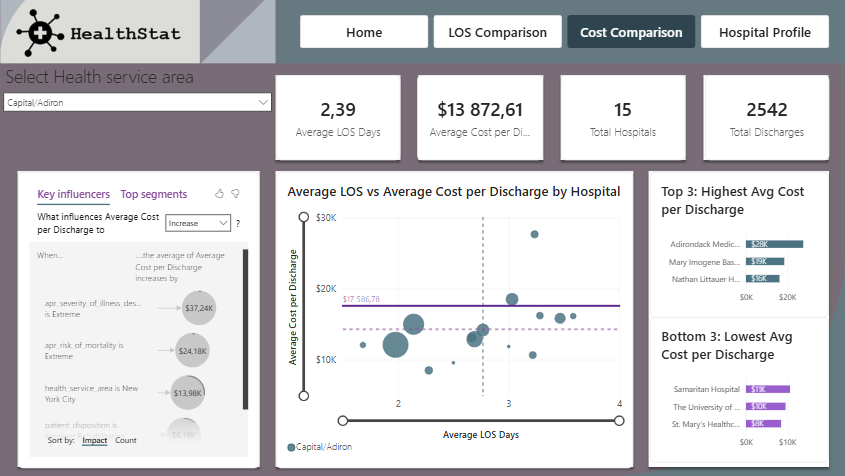

The dashboard page shown, as its layout file describes it:
{"tool":"powerbi","page":{"name":"Cost Comparison","canvas":[1920,1080],"ordinal":2},"visuals":[{"type":"scatterChart","title":"Average LOS vs Average Cost per Discharge by Hospital","fields":{"Category":["hospital_discharges.facility_name"],"Series":["hospital_discharges.health_service_area"],"Size":["_Measures.Total Discharges"],"X":["_Measures.Average LOS Days"],"Y":["_Measures.Average Cost per Discharge"]},"box":[737.5,436.2,540,447.5],"z":0},{"type":"slicer","fields":{"Values":["hospital_discharges.health_service_area"]},"box":[321.2,273.8,416.2,162.5],"z":1000},{"type":"keyDriversVisual","fields":{"ExplainBy":["hospital_discharges.apr_risk_of_mortality","hospital_discharges.apr_severity_of_illness_description","hospital_discharges.ccs_diagnosis_description","hospital_discharges.patient_disposition","hospital_discharges.gender","hospital_discharges.age_group","surgical_program_volume_summary.Surgical Program Size","hospital_discharges.health_service_area"],"Target":["_Measures.Average Cost per Discharge"]},"box":[347.5,436.2,365,447.5],"z":2000},{"type":"clusteredBarChart","title":"Top 3: Highest Avg Cost per Discharge","fields":{"Category":["hospital_discharges.facility_name"],"Y":["_Measures.Average Cost per Discharge"]},"box":[1303.8,436.2,270,220],"z":3000},{"type":"clusteredBarChart","title":"Bottom 3: Lowest Avg Cost per Discharge","fields":{"Category":["hospital_discharges.facility_name"],"Y":["_Measures.Average Cost per Discharge"]},"box":[1303.8,656.2,270,220],"z":4000},{"type":"card","fields":{"Values":["_Measures.Average LOS Days"]},"box":[737.5,290,187.5,128.8],"z":5000},{"type":"card","fields":{"Values":["_Measures.Average Cost per Discharge"]},"box":[951.2,290,190,128.8],"z":6000},{"type":"card","fields":{"Values":["_Measures.Total Hospitals"]},"box":[1168.8,290,187.5,128.8],"z":7000},{"type":"card","fields":{"Values":["_Measures.Total Discharges"]},"box":[1386.2,290,187.5,128.8],"z":8000},{"type":"pageNavigator","box":[774.3,200,800,50],"z":9000}]}

Visuals, with their boxes in screenshot pixels (x1, y1, x2, y2), scaled from the page's 1920x1080 canvas onto the 845x476 screenshot:
"Average LOS vs Average Cost per Discharge by Hospital" scatterChart: <region>325, 192, 562, 389</region>
slicer - hospital_discharges.health_service_area: <region>141, 121, 325, 192</region>
keyDriversVisual - hospital_discharges.apr_risk_of_mortality x hospital_discharges.apr_severity_of_illness_description: <region>153, 192, 314, 389</region>
"Top 3: Highest Avg Cost per Discharge" clusteredBarChart: <region>574, 192, 693, 289</region>
"Bottom 3: Lowest Avg Cost per Discharge" clusteredBarChart: <region>574, 289, 693, 386</region>
card - _Measures.Average LOS Days: <region>325, 128, 407, 185</region>
card - _Measures.Average Cost per Discharge: <region>419, 128, 502, 185</region>
card - _Measures.Total Hospitals: <region>514, 128, 597, 185</region>
card - _Measures.Total Discharges: <region>610, 128, 693, 185</region>
pageNavigator: <region>341, 88, 693, 110</region>
